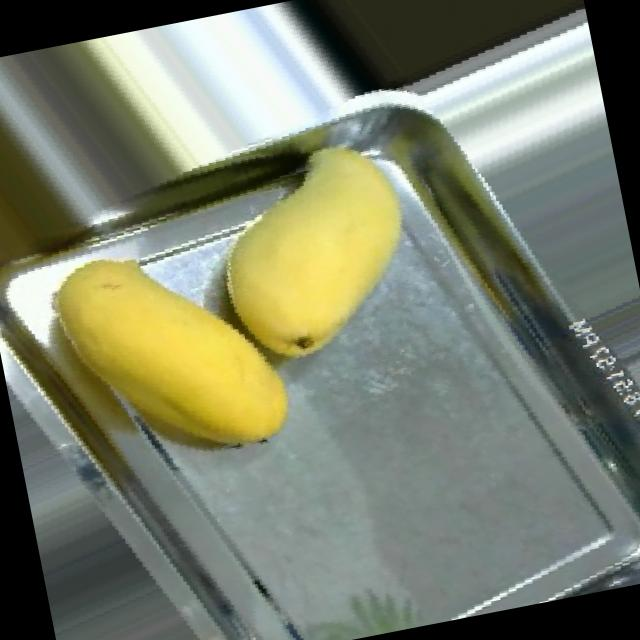fruit: (9, 198, 335, 516), (164, 106, 472, 400), (290, 0, 595, 125)
